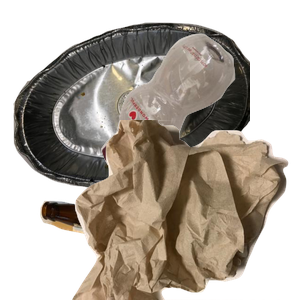glass: (37, 198, 236, 300)
metal: (11, 20, 251, 200)
plastic: (99, 31, 300, 189)
trash: (70, 120, 300, 300)
